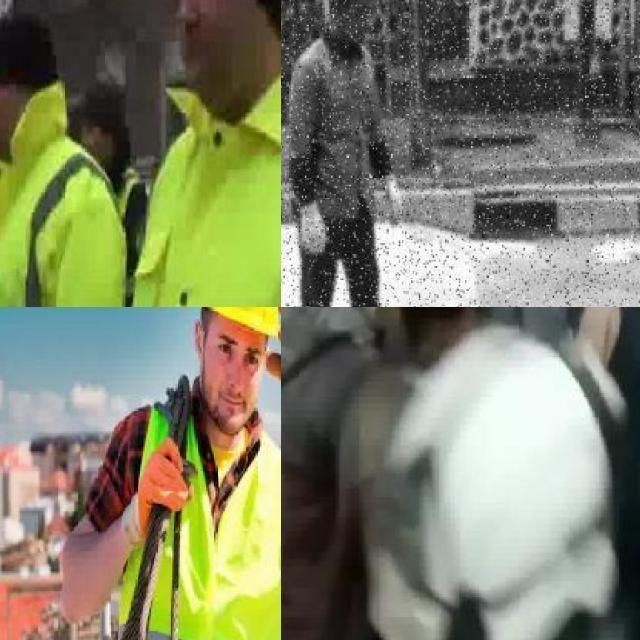apron: (119, 437, 193, 552), (294, 196, 330, 264), (375, 172, 404, 230)
